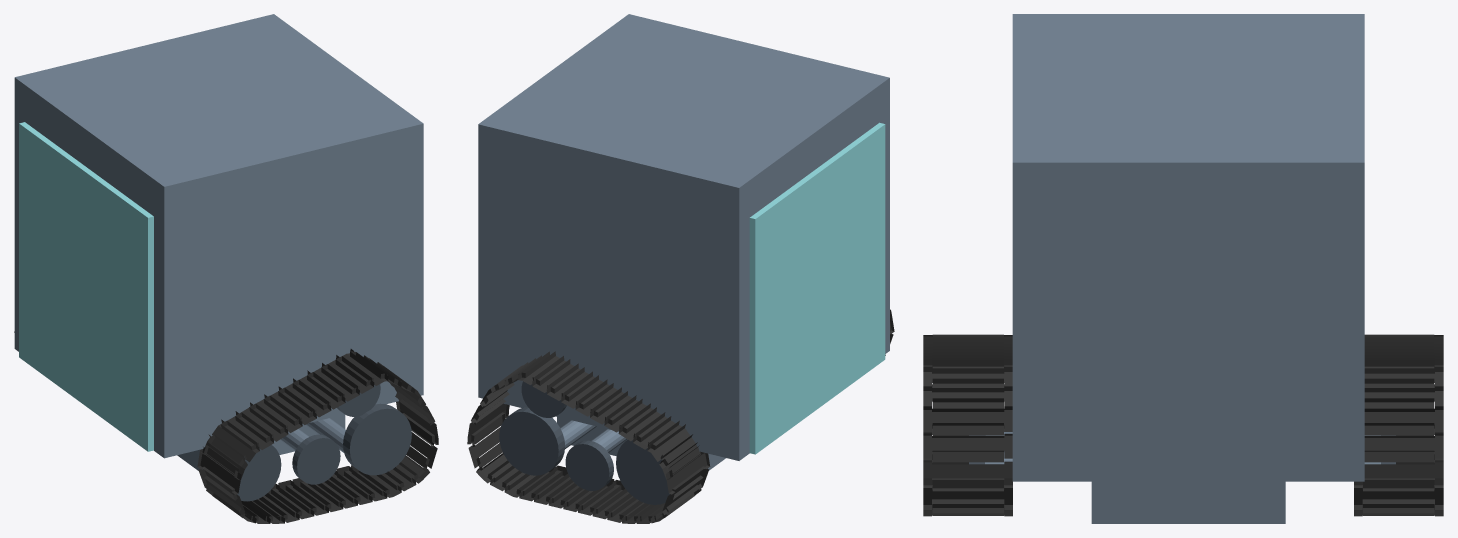
File: SUN2.fbx
3 views of the same model, side by side, from view 1: azimuth 30°, elevation 25°; view 2: azimuth 150°, elevation 25°; view 3: azimuth 270°, elevation 25° (orthographic). The views are drawn at different scales.
Visible parts, largest first — view 1: Cube, Cube.002, Cube.004, Cylinder.011, Cylinder.010, Cylinder.009, Cylinder.014, Cube.001, Cylinder.004; view 2: Cube, Cube.002, Cube.003, Cylinder.006, Cylinder.008, Cylinder.007, Cylinder.012, Cube.001, Cylinder.003; view 3: Cube, Cube.004, Cube.003, Cube.001.
Boxes of the visible parts, box(x1,y1,x2,y2) form: Cube: box(14, 14, 423, 458); Cube.002: box(19, 122, 153, 451); Cube.004: box(197, 349, 438, 523); Cylinder.011: box(343, 403, 411, 475); Cylinder.010: box(292, 434, 340, 484); Cylinder.009: box(237, 445, 281, 501); Cylinder.014: box(337, 384, 380, 416); Cube.001: box(177, 414, 345, 470); Cylinder.004: box(306, 418, 345, 452); Cube: box(478, 14, 889, 460); Cube.002: box(749, 122, 885, 454); Cube.003: box(467, 351, 710, 523); Cylinder.006: box(499, 407, 564, 475); Cylinder.008: box(616, 440, 670, 504); Cylinder.007: box(565, 440, 613, 490); Cylinder.012: box(521, 381, 566, 417); Cube.001: box(557, 417, 725, 470); Cylinder.003: box(560, 420, 596, 448); Cube: box(1012, 14, 1364, 481); Cube.004: box(923, 334, 1012, 516); Cube.003: box(1354, 334, 1443, 516); Cube.001: box(1091, 481, 1285, 523).
Bounding box in the file's own units: 204 × 243 × 296.
